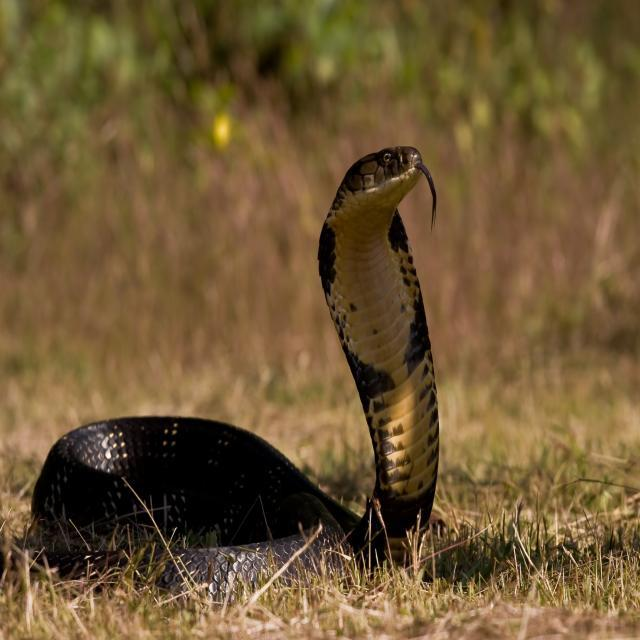Snake: (25, 143, 441, 608)
